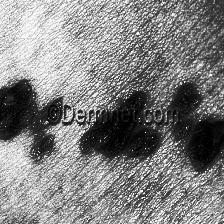Benign Marking or Mole: (79, 90, 159, 161), (167, 84, 224, 170), (0, 84, 60, 151)
